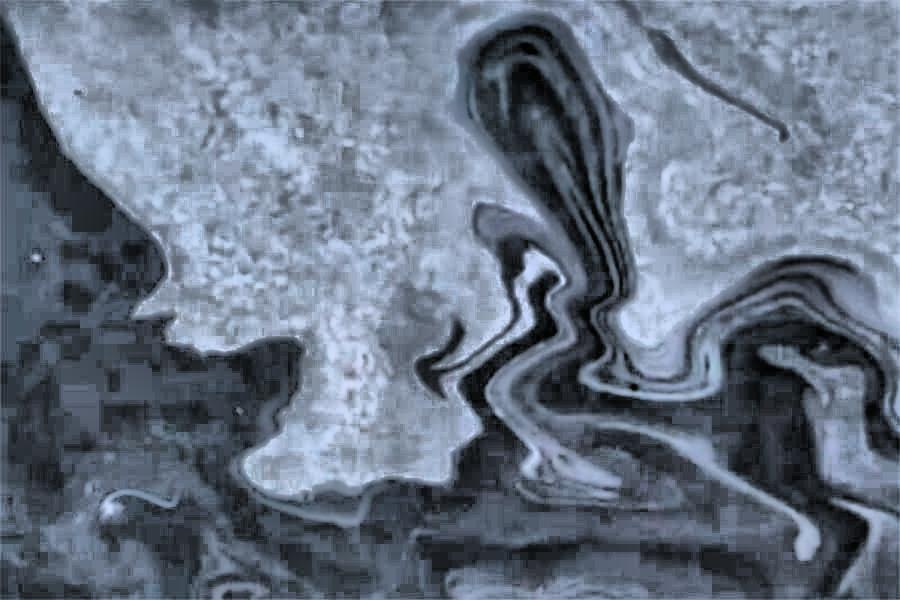sheen: (0, 1, 900, 497)
